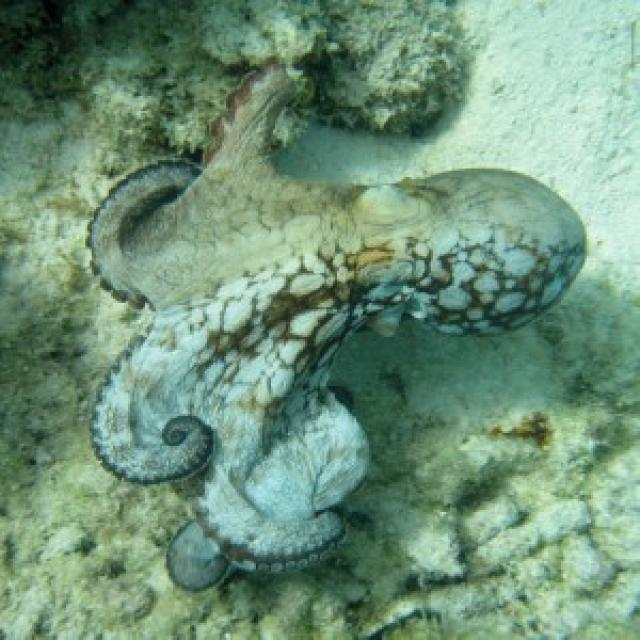Octo: (80, 58, 600, 600)
